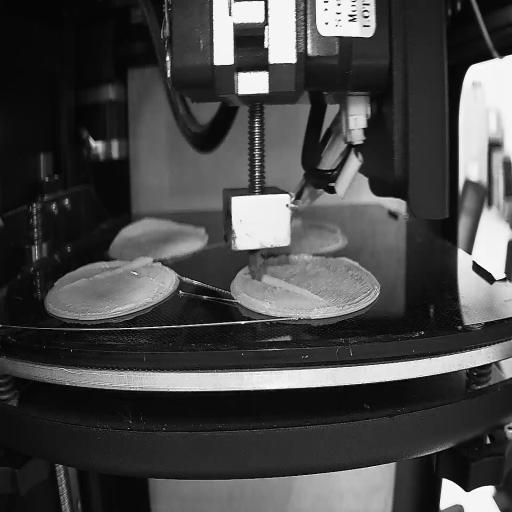over_extrusion: (60, 250, 152, 290), (110, 214, 208, 240), (260, 272, 322, 304)
